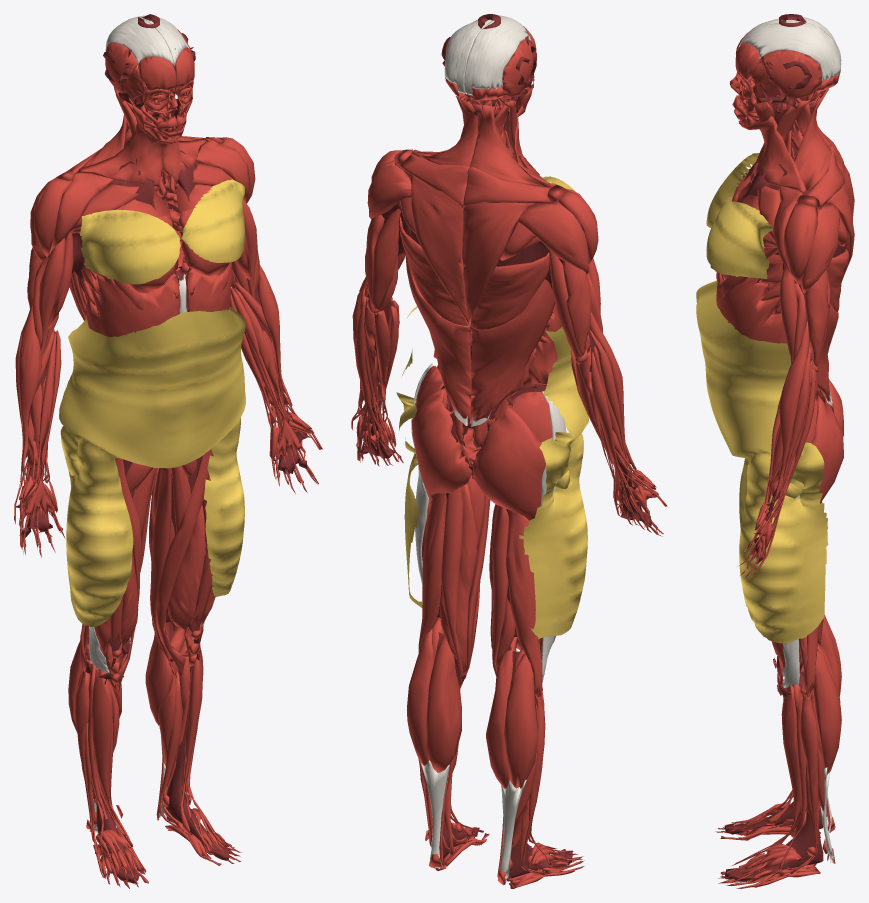
The model's file is anatomy_80k.glb.
The picture shows the model from 3 angles, left to right: view 1: azimuth 30°, elevation 25°; view 2: azimuth 150°, elevation 25°; view 3: azimuth 270°, elevation 25°; orthographic projection. The views are drawn at different scales.
Visible parts, largest first — view 1: muscle, fat, shell, white; view 2: muscle, fat, white, shell; view 3: muscle, fat, shell, white.
Part boxes in pixels (x1,y1,x2,y2): muscle: [14, 29, 322, 888]; fat: [59, 179, 245, 626]; shell: [15, 14, 311, 883]; white: [89, 15, 204, 833]; muscle: [351, 26, 667, 888]; fat: [396, 176, 588, 639]; white: [411, 15, 566, 883]; shell: [361, 14, 656, 878]; muscle: [715, 32, 854, 888]; fat: [696, 153, 828, 643]; shell: [724, 14, 846, 881]; white: [739, 17, 841, 863].
Bounding box in the file's own units: 0.6596 × 1.71 × 0.2919.
